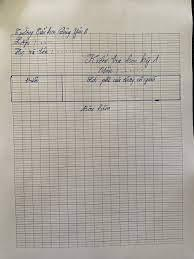text: (84, 51, 161, 68), (14, 25, 90, 40), (86, 75, 157, 87), (14, 46, 54, 58), (79, 103, 111, 113), (13, 37, 33, 48), (24, 75, 41, 84), (97, 65, 113, 74)
